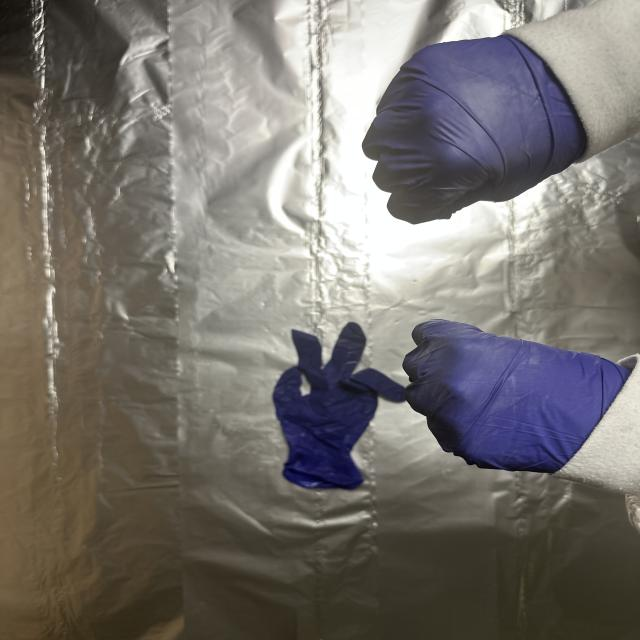gloves_contaminated: (363, 35, 586, 224), (405, 321, 630, 473)
